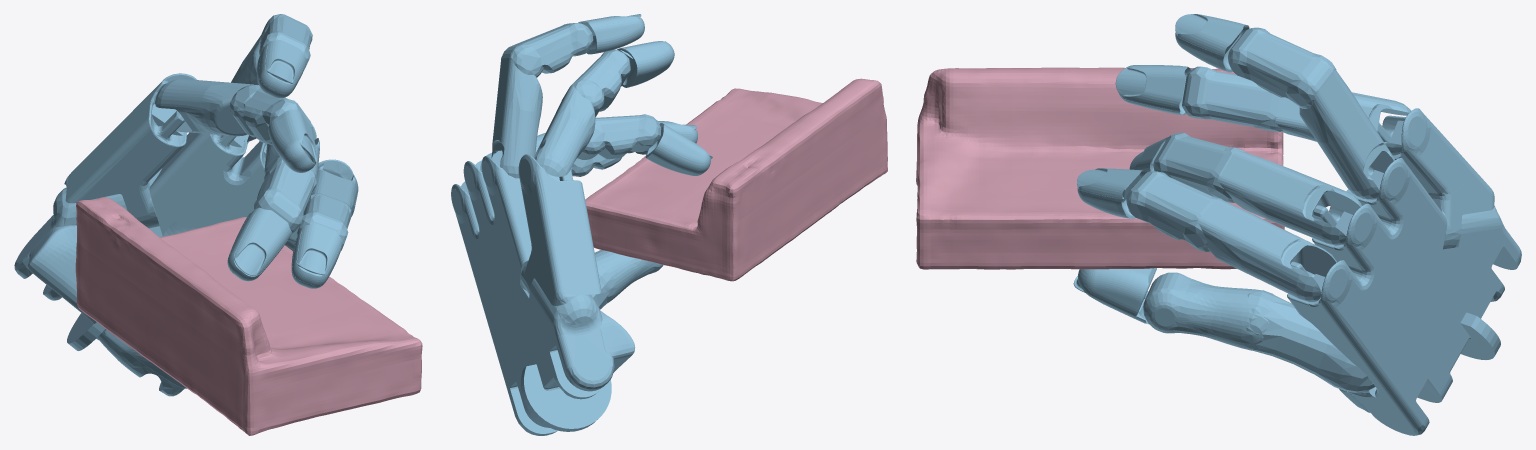
3 views of the same model, side by side, from view 1: azimuth 30°, elevation 25°; view 2: azimuth 150°, elevation 25°; view 3: azimuth 270°, elevation 25° (orthographic). The views are drawn at different scales.
Parts seen in each view (by area): view 1: hand_isaac_q, world; view 2: hand_isaac_q, world; view 3: hand_isaac_q, world.
Part boxes in pixels (left/top/right/bottom): hand_isaac_q: left=14, top=14, right=358, bottom=396; world: left=75, top=197, right=422, bottom=435; hand_isaac_q: left=451, top=14, right=712, bottom=435; world: left=585, top=78, right=887, bottom=281; hand_isaac_q: left=1073, top=14, right=1521, bottom=435; world: left=916, top=67, right=1284, bottom=269.
Bounding box in the file's own units: 0.1304 × 0.1672 × 0.2171.
